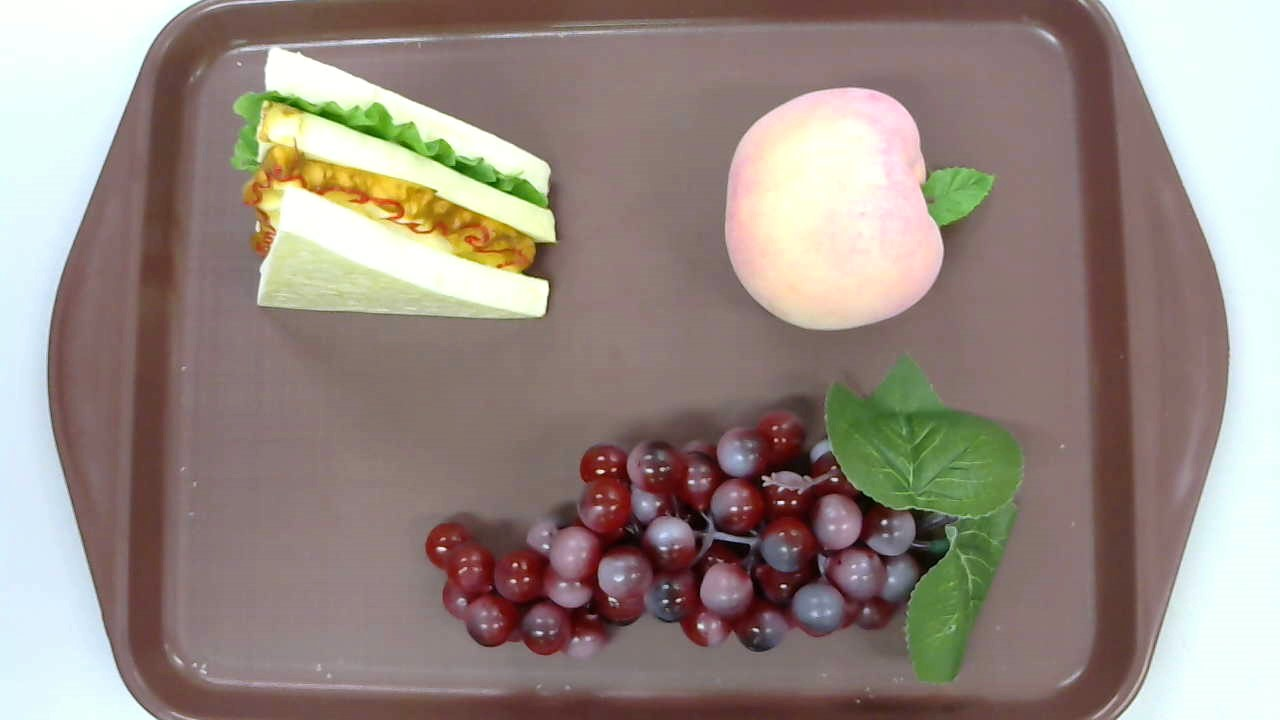grape: (427, 353, 1023, 684)
peach: (724, 87, 995, 333)
sandwich: (231, 45, 558, 322)
